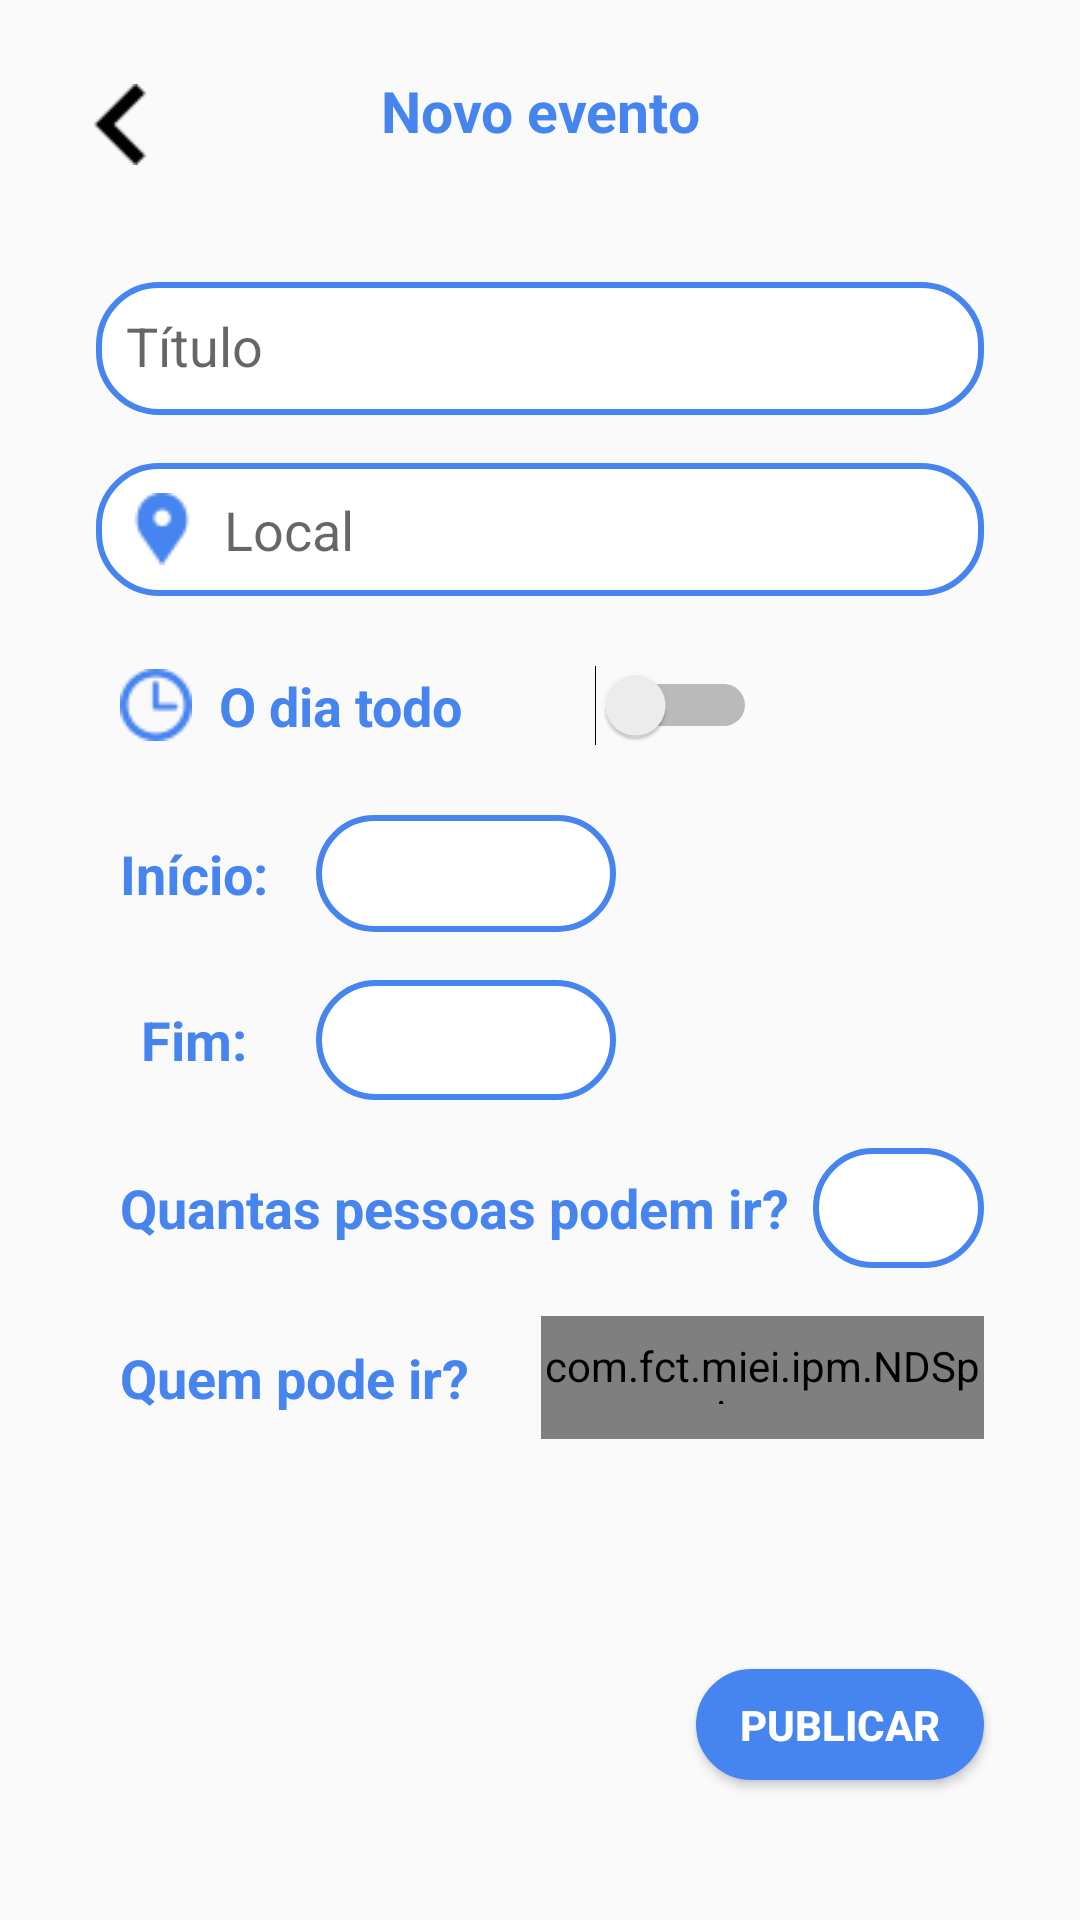

Where icons sit on this 1080px x 1920px app screen, as region(x1, y1, x2, y2):
backblack: region(94, 84, 146, 165)
